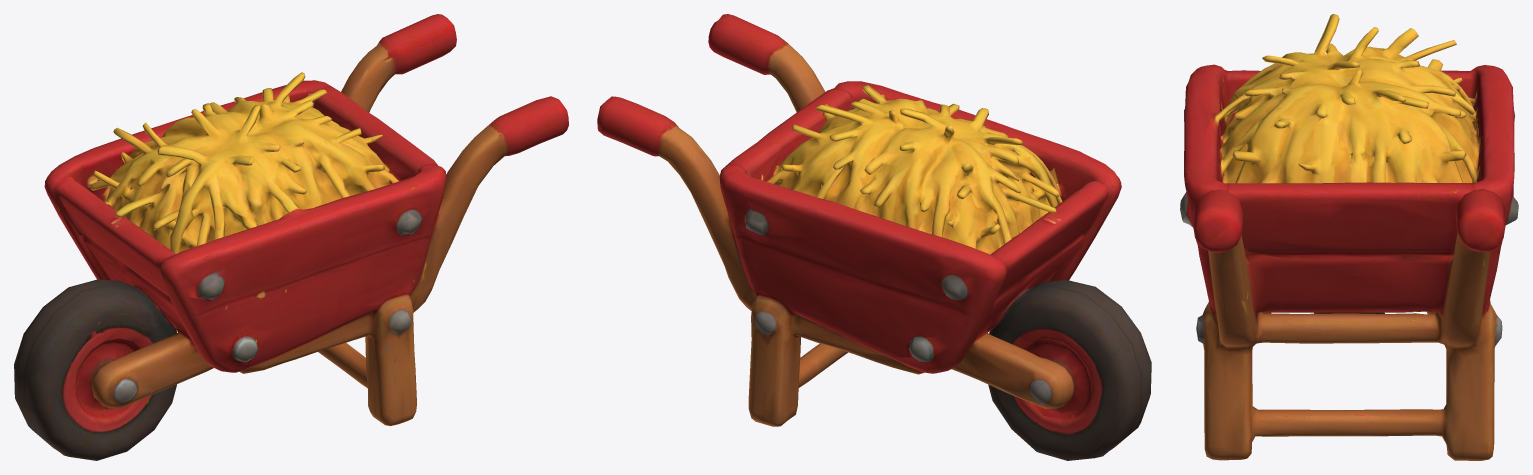
3 views of the same model, side by side, from view 1: azimuth 30°, elevation 25°; view 2: azimuth 150°, elevation 25°; view 3: azimuth 270°, elevation 25° (orthographic). The views are drawn at different scales.
Visible parts, largest first — view 1: wheelbarrow; view 2: wheelbarrow; view 3: wheelbarrow.
Part boxes in pixels (<box>): wheelbarrow: <box>14,14,568,460</box>; wheelbarrow: <box>597,14,1151,460</box>; wheelbarrow: <box>1180,14,1518,460</box>.
Bounding box in the file's own units: 1.2 × 0.7319 × 0.618.
Materials: 1 (1 with a texture image).
